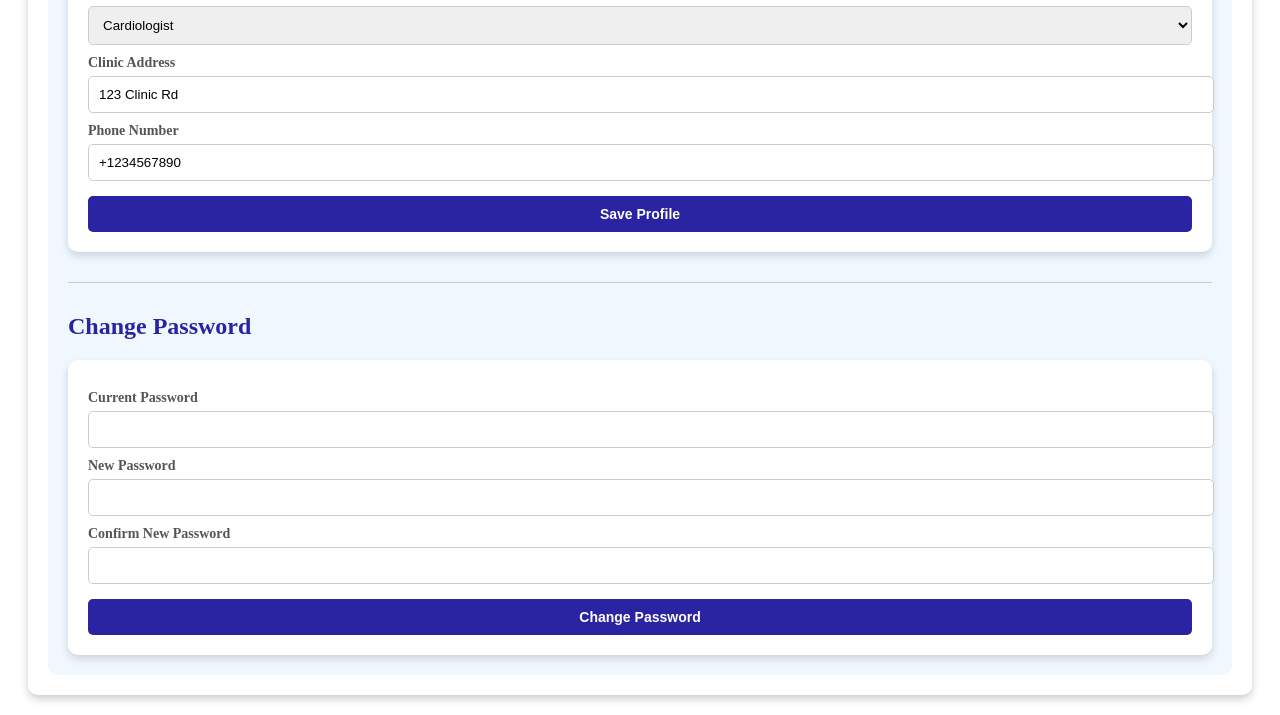
Doctor Profile Page › Change Password › shows error when new passwords do not match
(page scrolled)
In the password field with test id "current-password": [651, 430] box [88,411,1214,448], type "oldPass123"
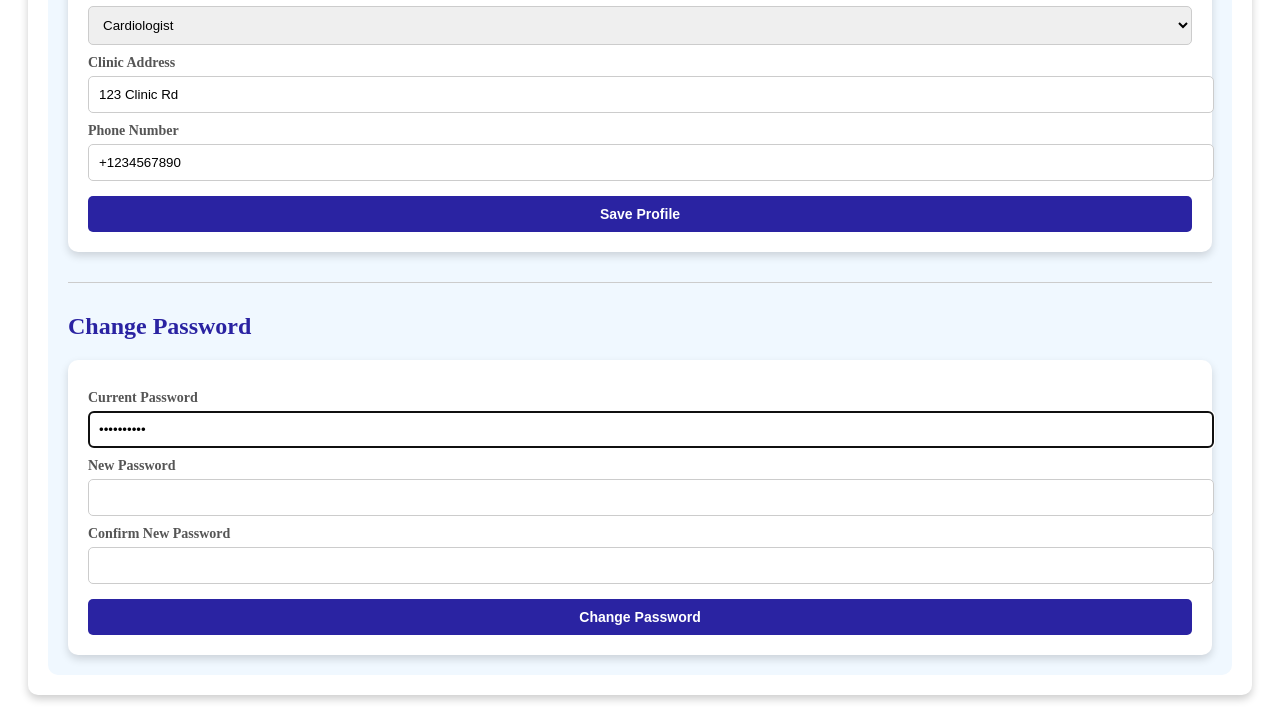
In the password field with test id "new-password-input": [651, 498] box [88,479,1214,516], type "NewPass123"
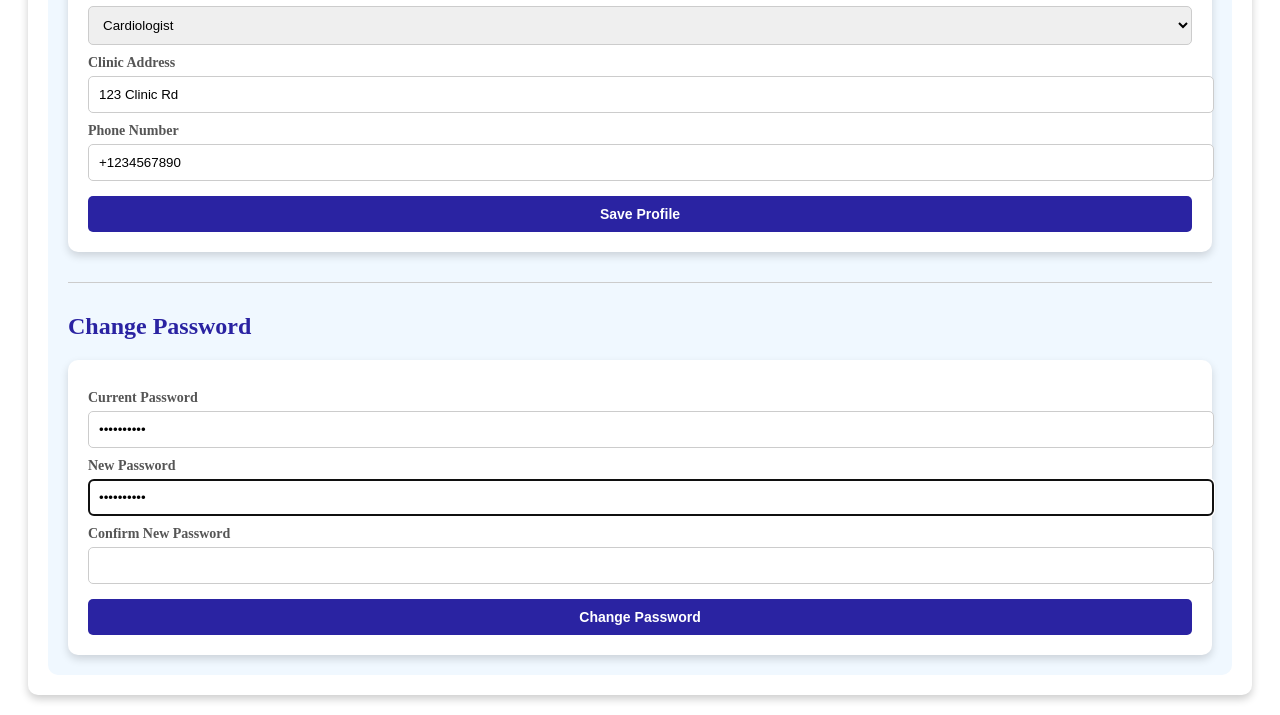
In the password field with test id "confirm-new-password-input": [651, 566] box [88,547,1214,584], type "NewPass124"
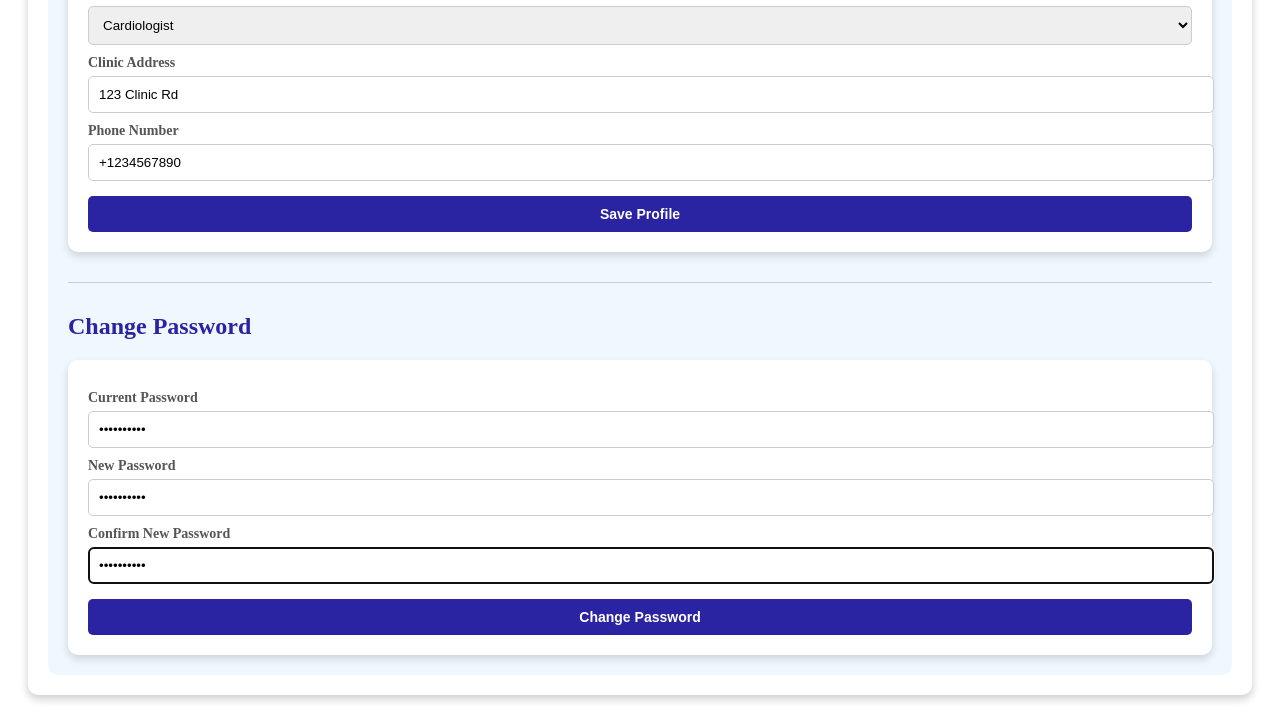
Click the button with test id "chngpass": [640, 617] box [88,599,1192,635]
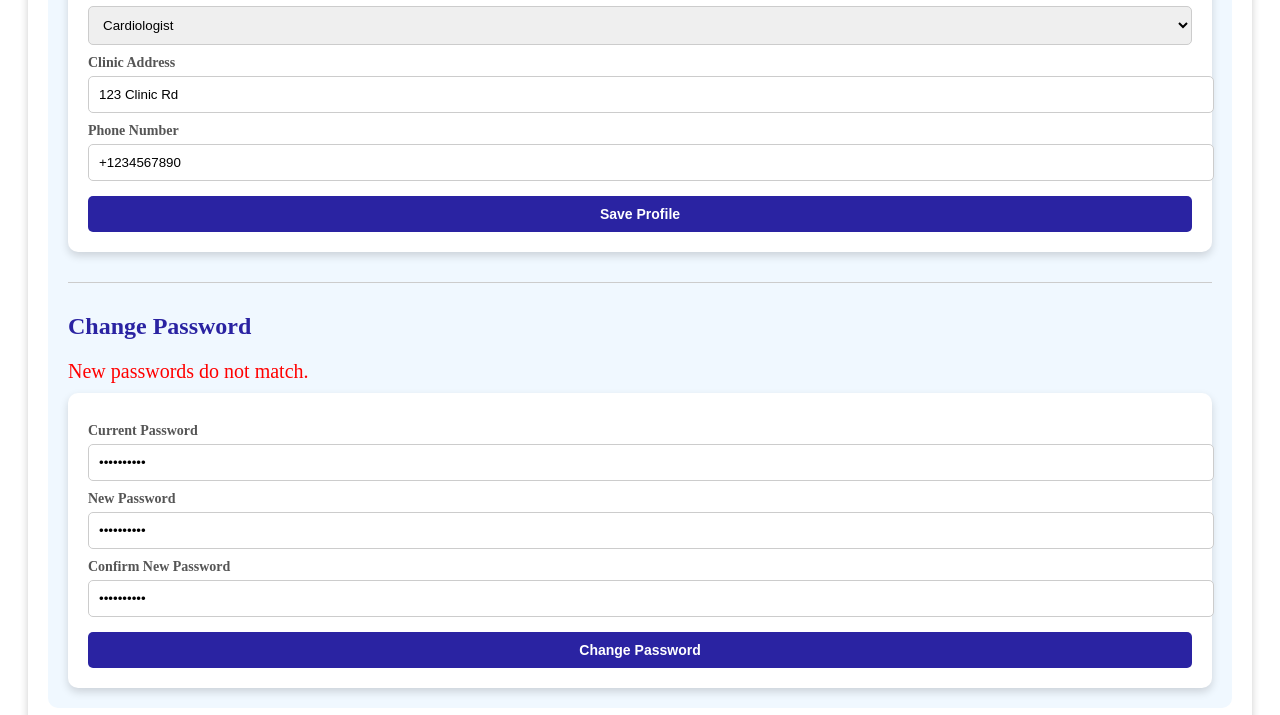
Expected: the text "New passwords do not match." is shown, [68,360,308,382]
